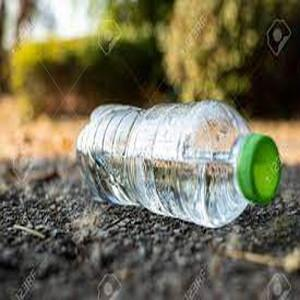Plastic: (75, 99, 282, 230)
